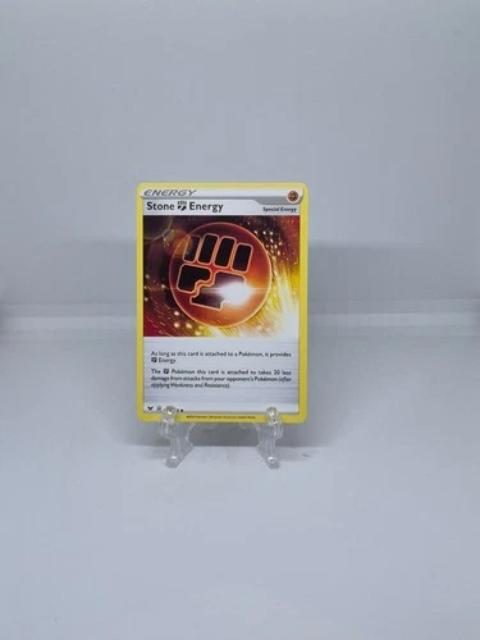Card: (132, 178, 311, 426)
Name: (140, 198, 230, 214)
